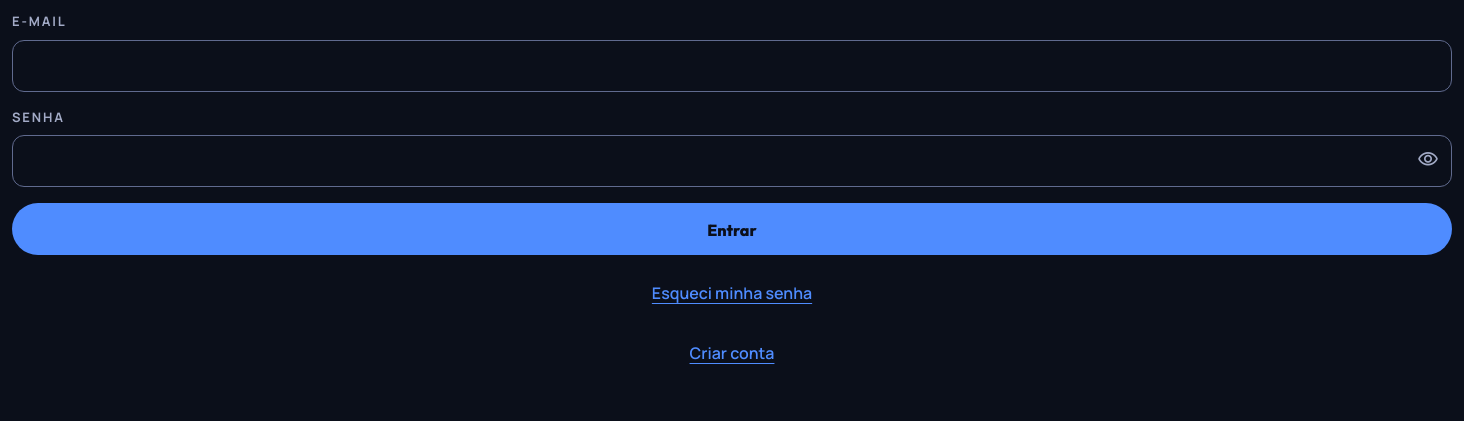
Test: LoginForm — envio › credencial errada: mensagem do code, e-mail mantido, senha limpa e foco na senha (CA-25)
The width and height of the screenshot is (1464, 421).
Type "ana@exemplo.com" into the field labelled "E-mail" at (732, 66), box [12, 40, 1452, 92]
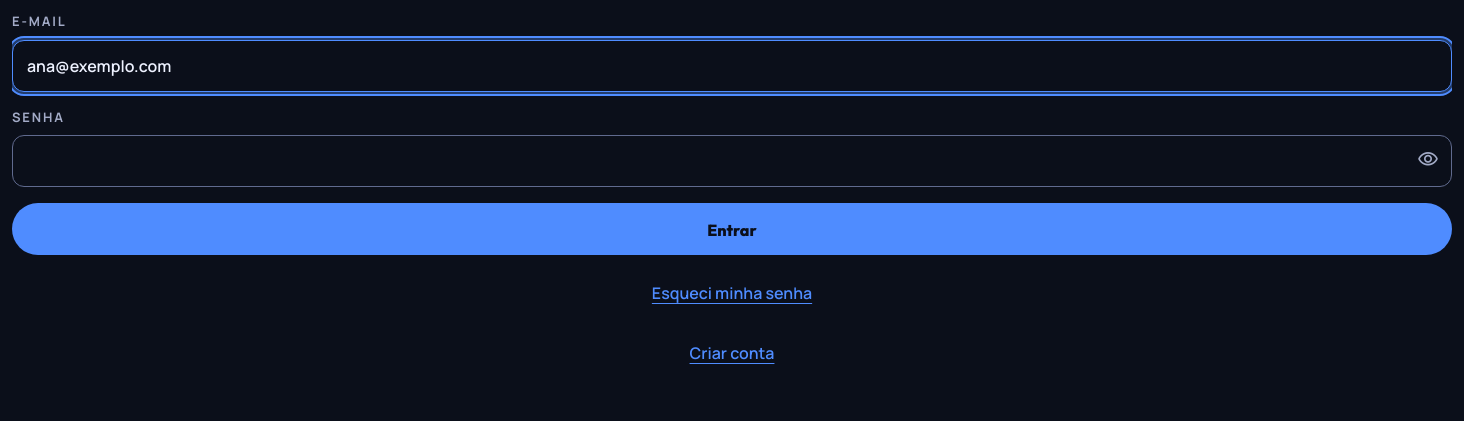
Type "senha-errada" into the password field labelled "Senha" at (732, 161), box [12, 135, 1452, 187]
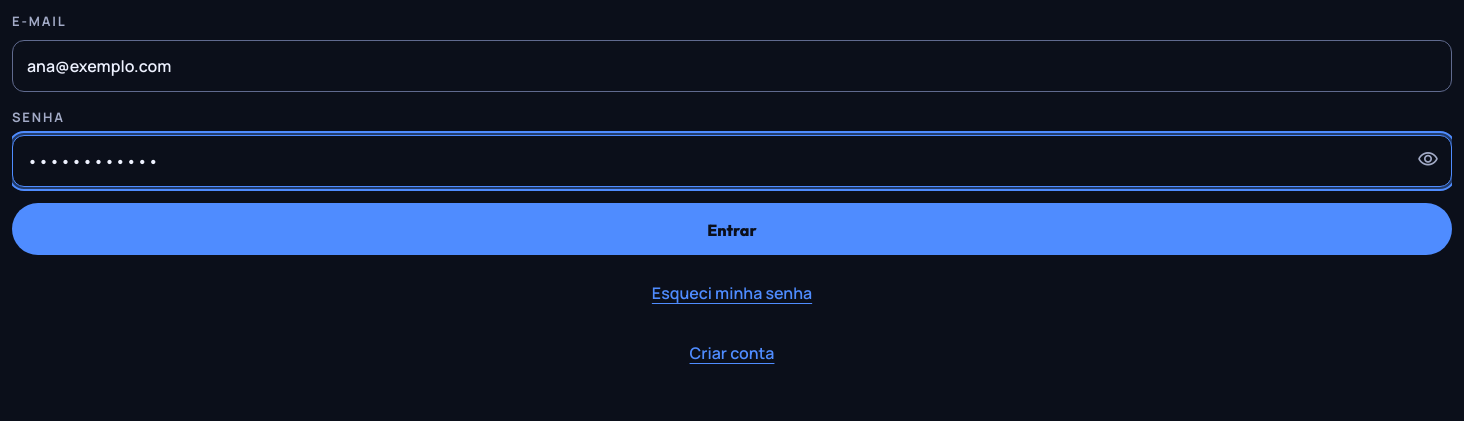
Click the button "Entrar" at (732, 229), box [12, 203, 1452, 255]
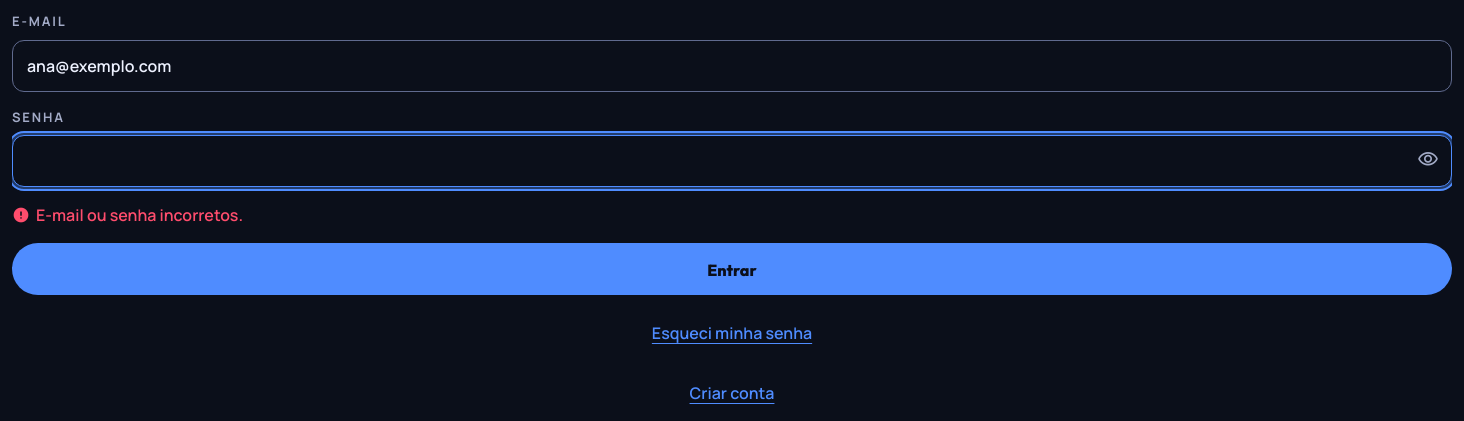
Expected: the text "E-mail ou senha incorretos." is shown, [12, 204, 243, 226]
Expected: the password field labelled "Senha" is empty, [12, 135, 1452, 187]
